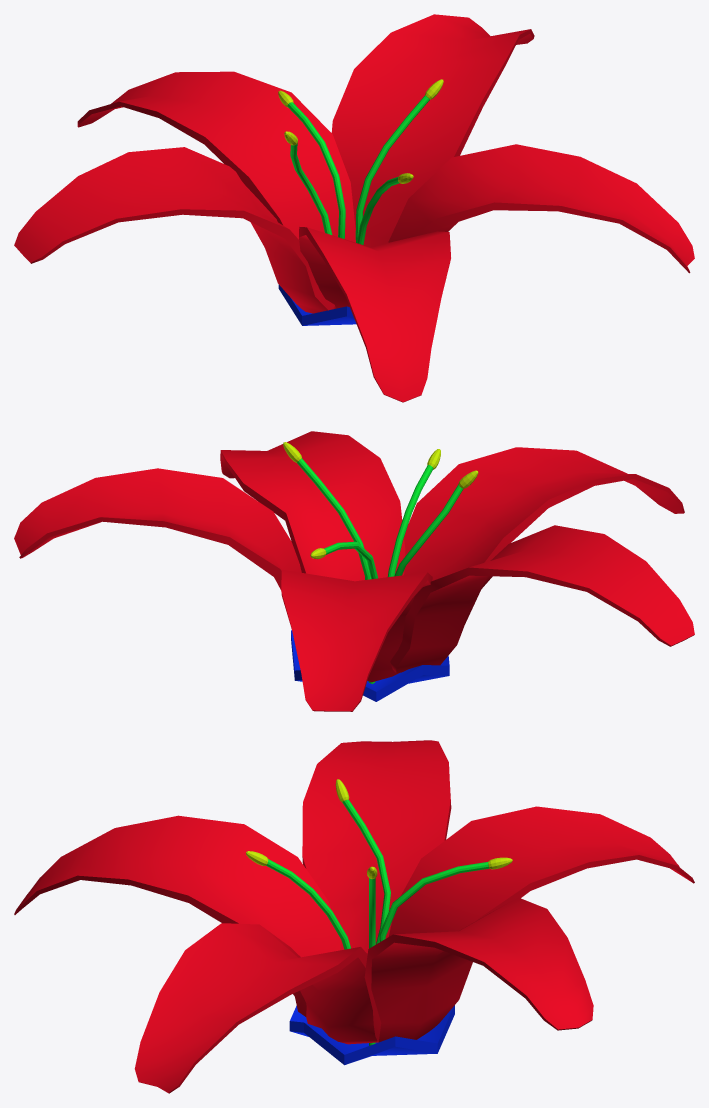
File: lilyFlower.fbx
3 views of the same model, one above another, from view 1: azimuth 30°, elevation 25°; view 2: azimuth 150°, elevation 25°; view 3: azimuth 270°, elevation 25° (orthographic). The views are drawn at different scales.
Visible parts, largest first — view 1: LilyFlower; view 2: LilyFlower; view 3: LilyFlower.
Part boxes in pixels (bbox=[...]): LilyFlower: bbox=[14, 14, 694, 402]; LilyFlower: bbox=[14, 431, 694, 711]; LilyFlower: bbox=[14, 740, 694, 1093].
Bounding box in the file's own units: 96.88 × 35.84 × 95.1.
